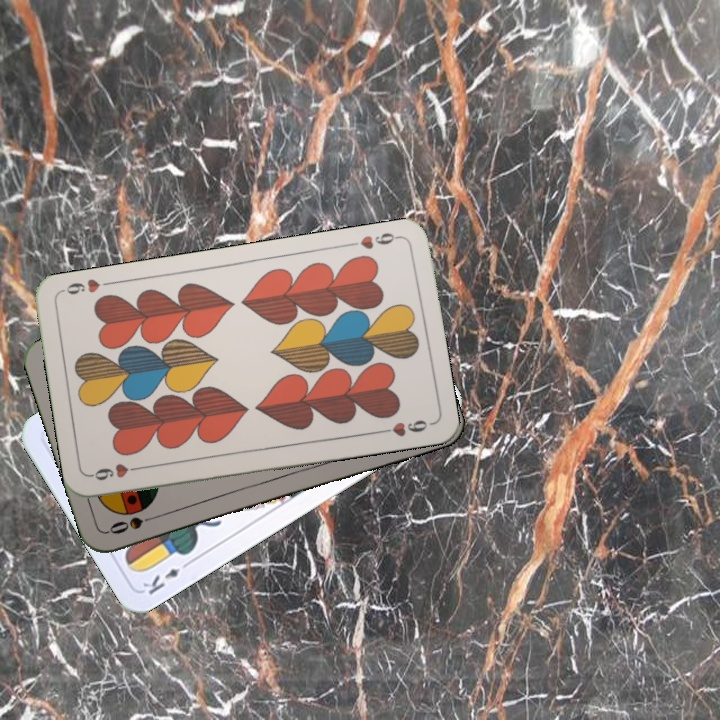EK: (138, 556, 194, 598)
H9: (87, 459, 146, 483), (356, 228, 403, 252)
SO: (105, 510, 163, 537)
